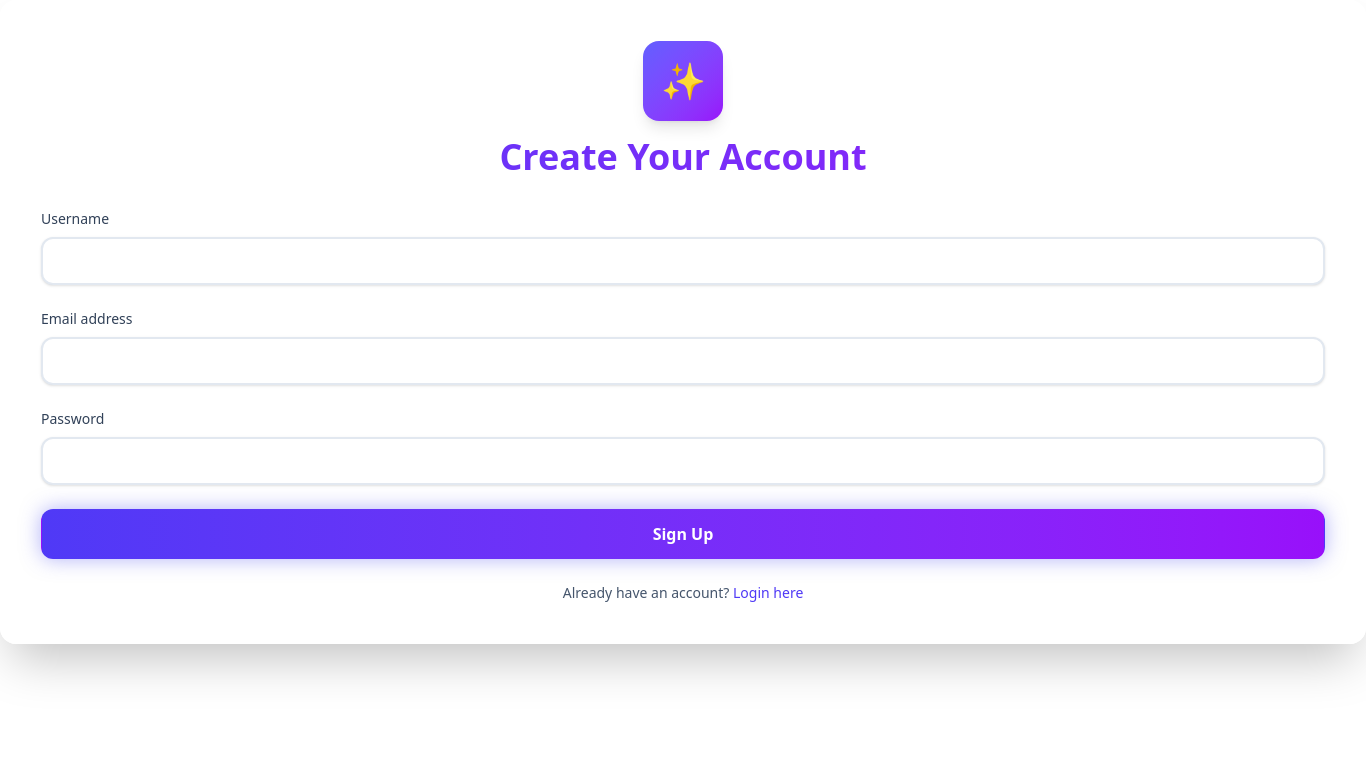
Test: AuthForm › register mode › should show validation errors for invalid input
The width and height of the screenshot is (1366, 768).
Step 1. Type "ab" into the field named "username" → (683, 261), box [41,237,1325,285]
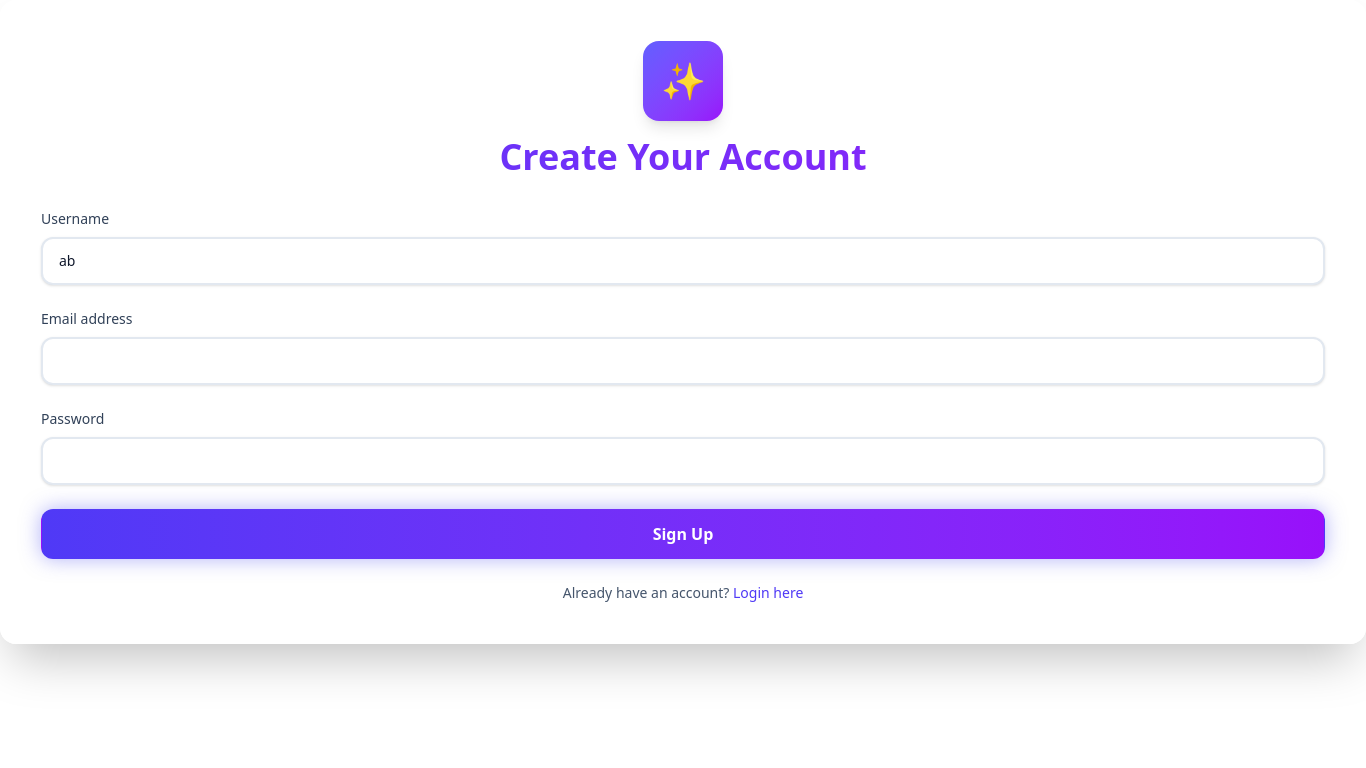
Step 2. Submit the form, box [41,209,1325,603]
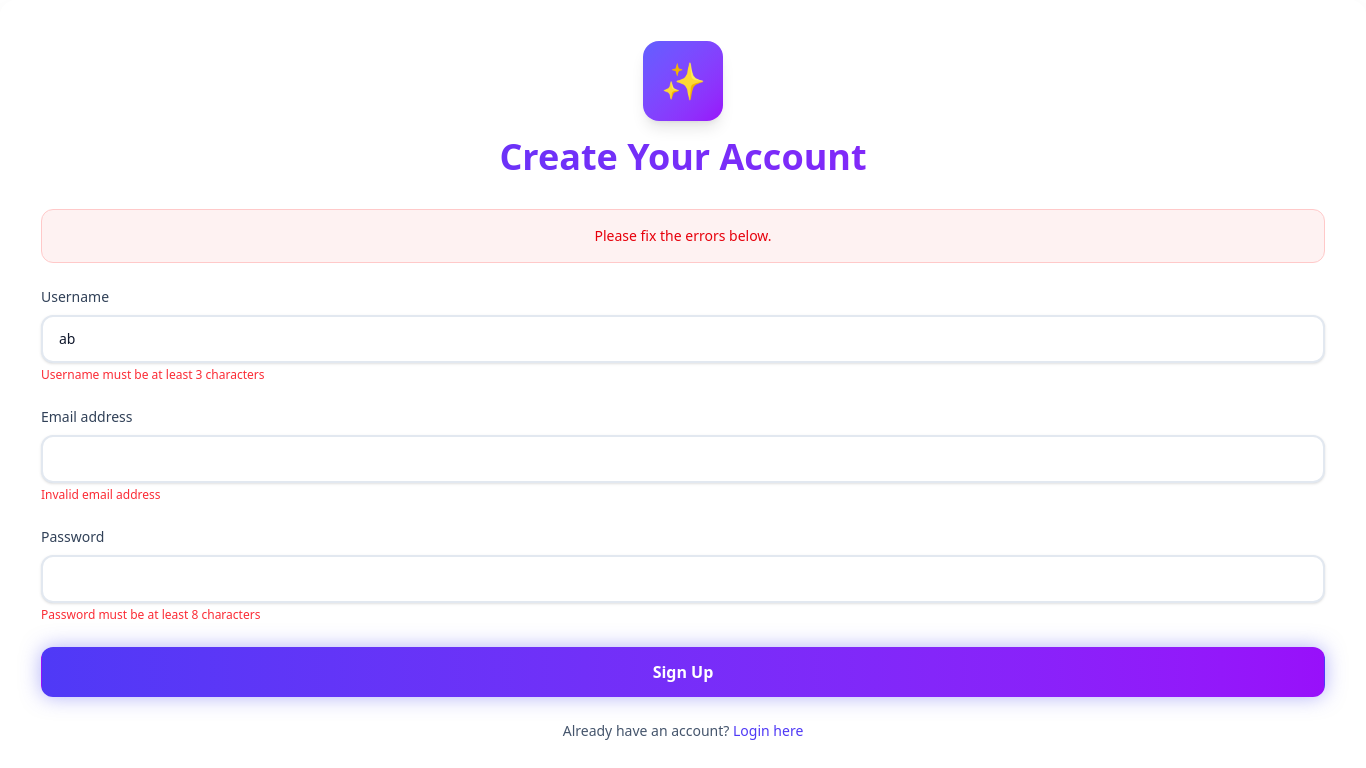
Expected: the text "Please fix the errors below" is shown, [594,226,772,245]
